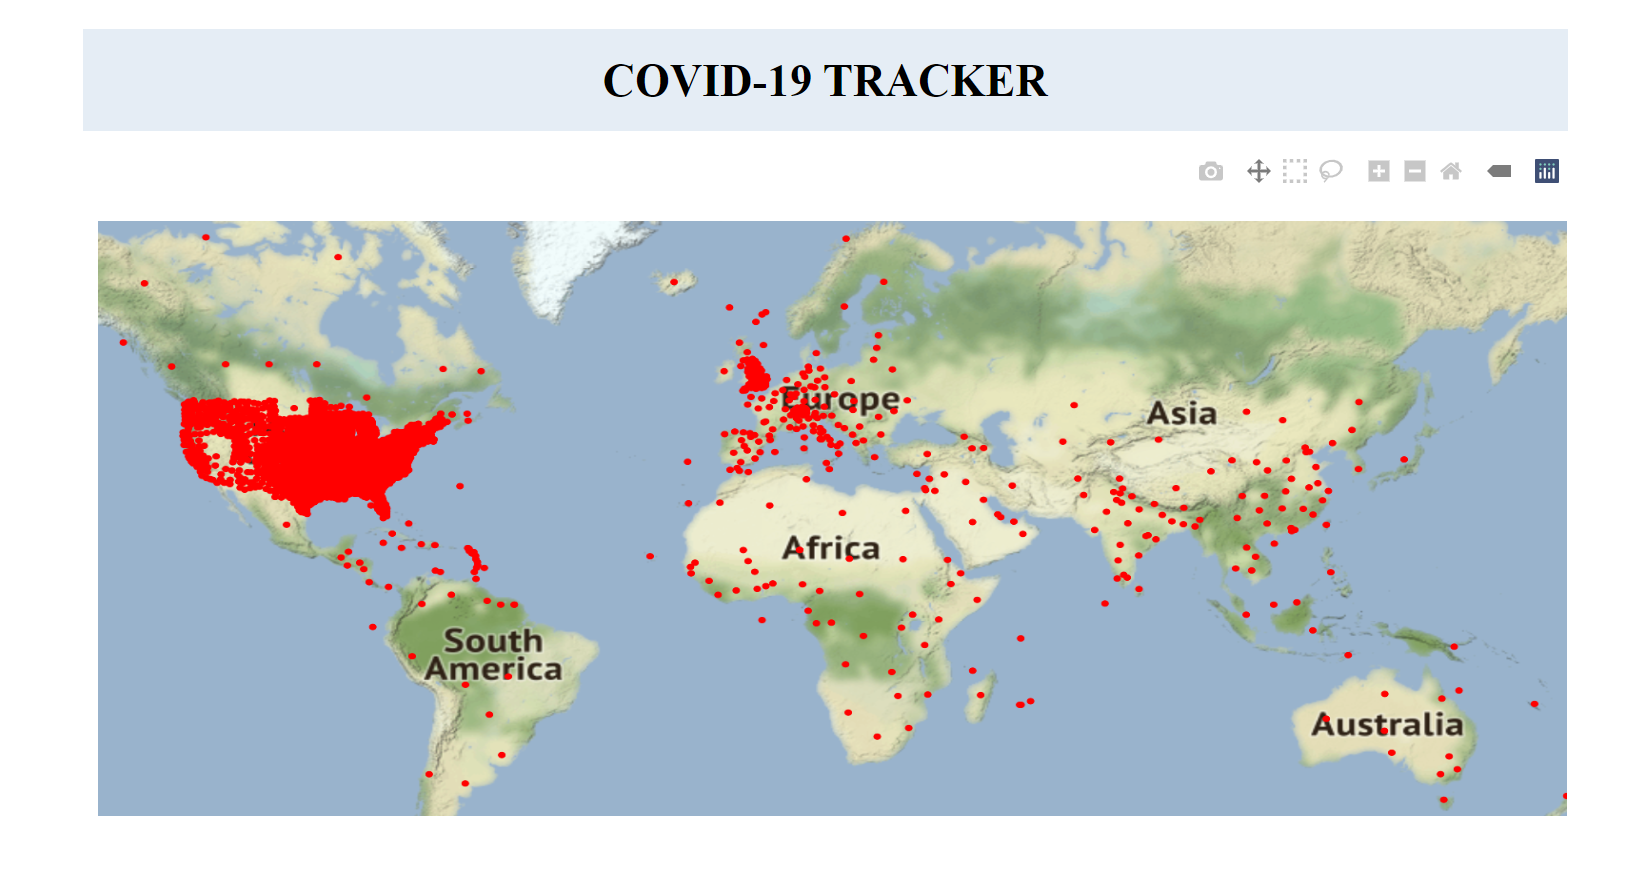

Layout of this report page (visuals, bound fields, positions):
{"tool":"tableau","page":{"name":"Dashboard 2","canvas":[1000,800],"ordinal":1},"visuals":[{"type":"worksheet","title":"MAIN COUNTRIES","mark":"Automatic","cols":["COUNTRY"],"box":[8,8,824,784]},{"type":"legend","title":"MAIN COUNTRIES","param":"[federated.057lrhp1kpov1n15k9xs00nzdrb2].[:Measure Names]","box":[832,8,160,86]}]}

Visuals, with their boxes on the page's 1000x800 design canvas (x1, y1, x2, y2). These are canvas units, not pixel positions in the 1646x894 screenshot, which may show the page scaled, cropped or inside an application window:
"MAIN COUNTRIES" worksheet: 8/8/832/792
"MAIN COUNTRIES" legend: 832/8/992/94
